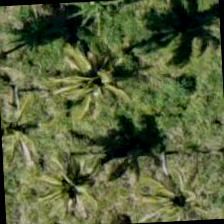Kelapa_Sawit: (27, 120, 122, 216), (28, 20, 123, 114), (131, 153, 223, 223), (0, 73, 60, 167)
